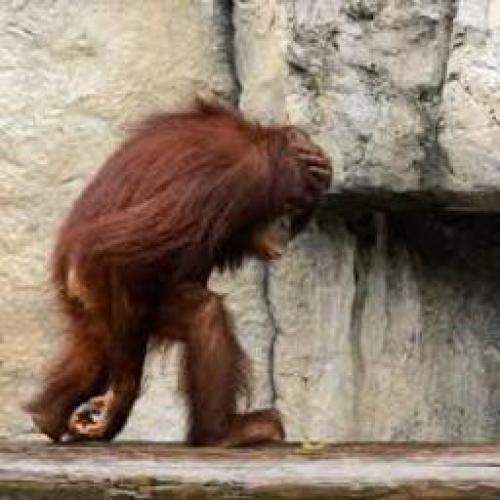orangutan-endangered: (17, 93, 334, 449)
